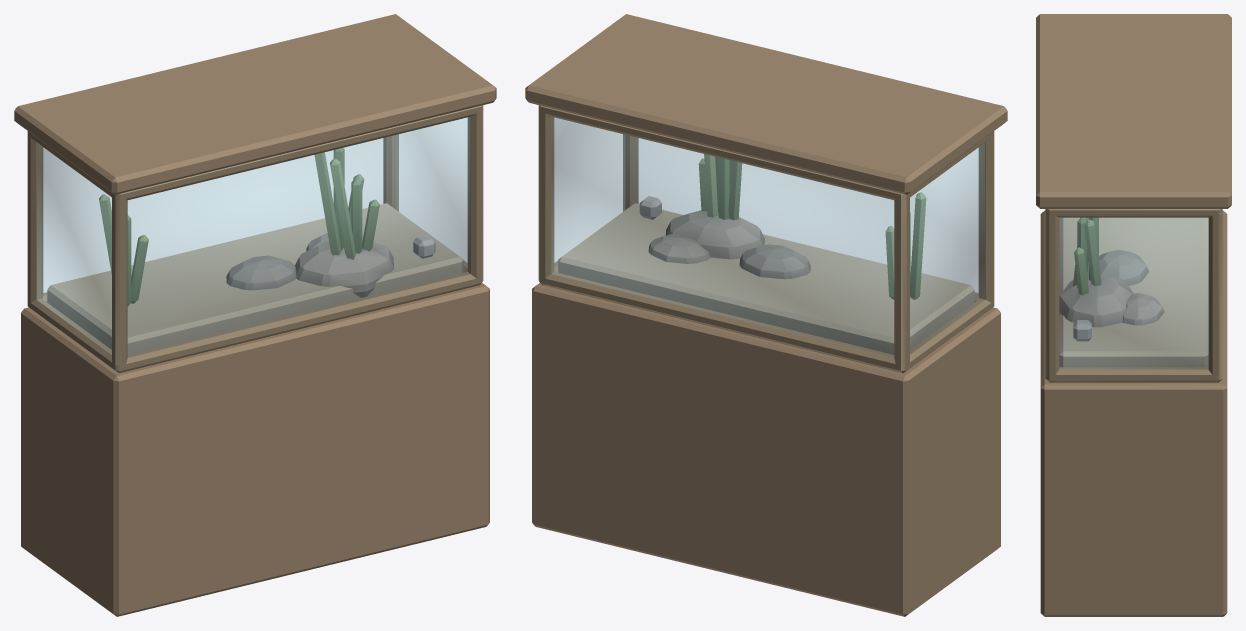
The model's file is furn_fish_tank__walnut.glb.
3 views of the same model, side by side, from view 1: azimuth 30°, elevation 25°; view 2: azimuth 150°, elevation 25°; view 3: azimuth 270°, elevation 25° (orthographic). The views are drawn at different scales.
Bounding box in the file's own units: 0.92 × 1.01 × 0.42.
